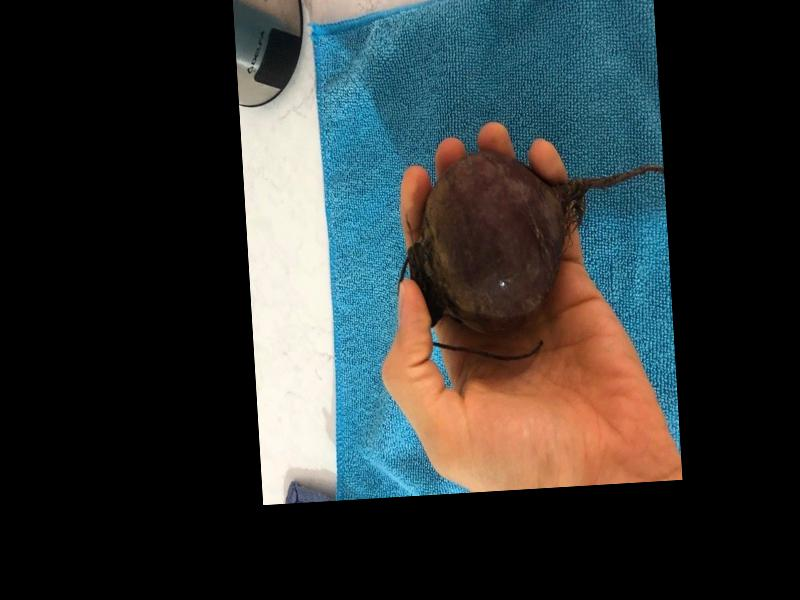Beet: (390, 139, 674, 365)
